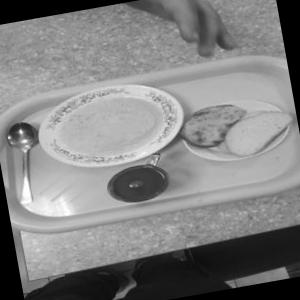bread: (219, 93, 300, 172)
cheese_sandwich: (168, 86, 260, 156)
coffee: (98, 154, 188, 212)
porridge: (42, 72, 190, 176)
